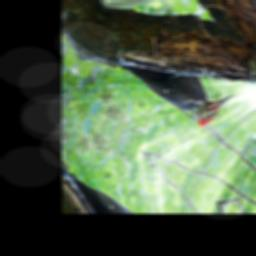Woodpecker: (117, 27, 235, 138)
